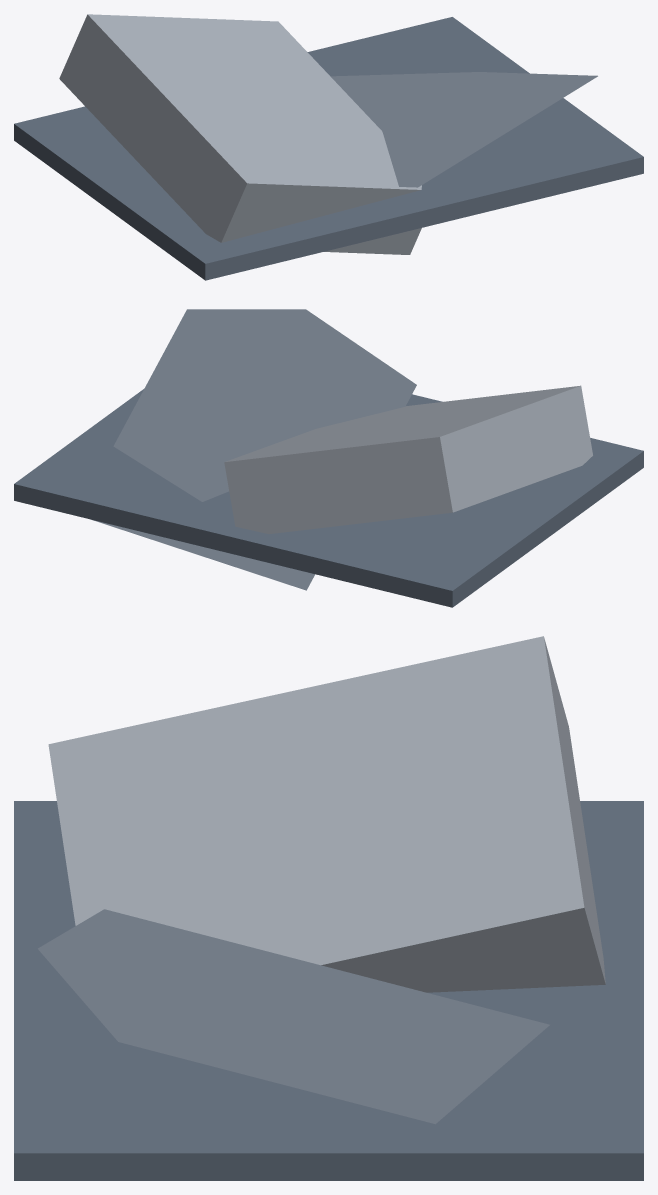
Rendered from industrial-warehouse-wreck.glb.
3 renders of one model, top to bottom at view 1: azimuth 30°, elevation 25°; view 2: azimuth 150°, elevation 25°; view 3: azimuth 270°, elevation 25°, orthographic. The views are drawn at different scales.
Parts seen in each view (by area): view 1: Root; view 2: Root; view 3: Root.
Part boxes in pixels (x1,y1,x2,y2): Root: [14, 14, 643, 280]; Root: [14, 309, 643, 607]; Root: [14, 636, 643, 1180].
Bounding box in the file's own units: 16.4 × 6.98 × 12.4.
